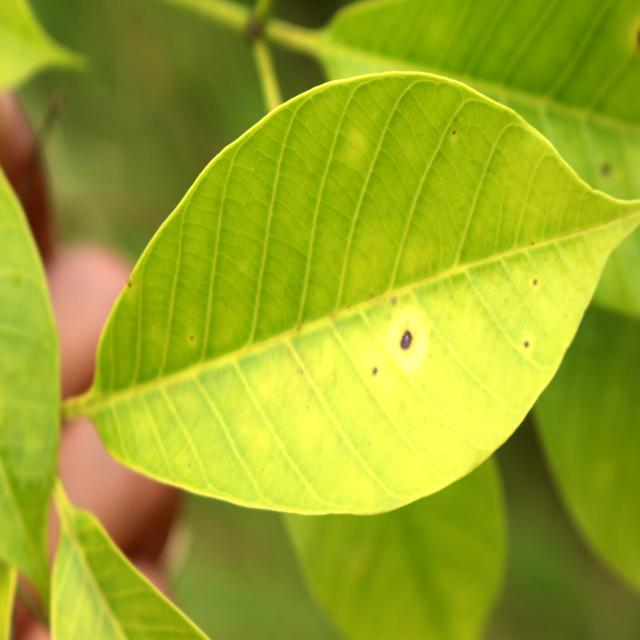Colletotrichum: (401, 331, 411, 350)
